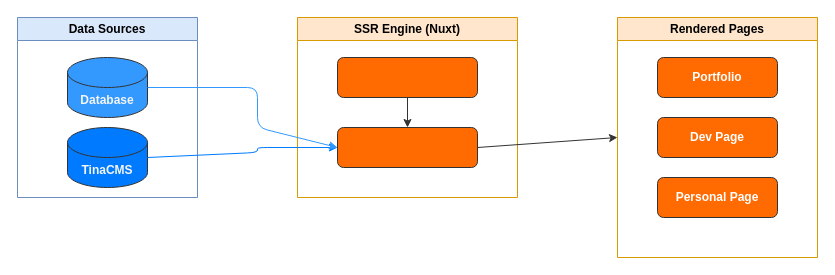
Some shapes in this 835 by 275 pixel diagram are drawn without their labels. The centre of each missing label's shape, as x and y in pixels:
"Dynamic Route Handler" goes at pixel 407 147.
"Main Navigation" goes at pixel 407 77.
